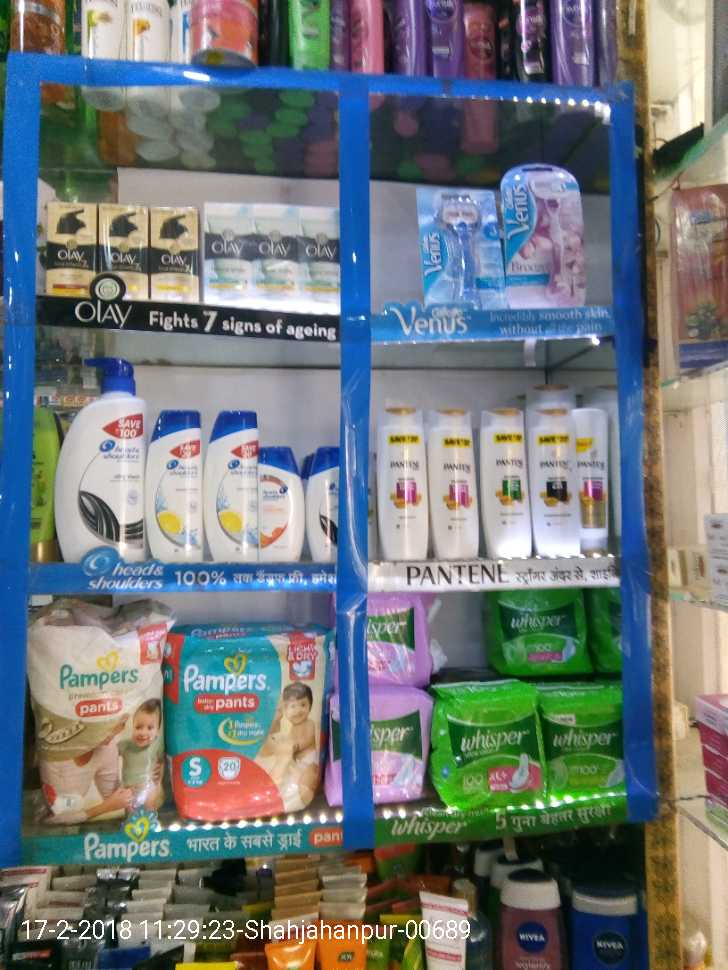venus: (507, 163, 585, 314), (422, 191, 507, 314)
